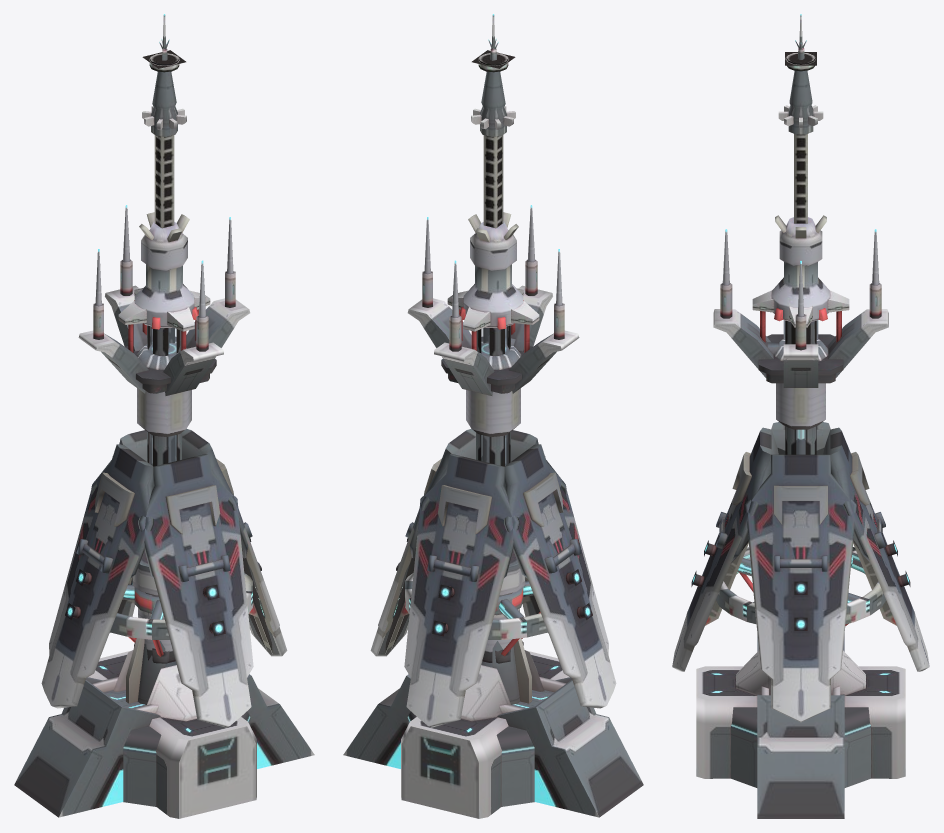
3 views of the same model, side by side, from view 1: azimuth 30°, elevation 25°; view 2: azimuth 150°, elevation 25°; view 3: azimuth 270°, elevation 25° (orthographic).
Visible parts, largest first — view 1: turret-signal; view 2: turret-signal; view 3: turret-signal.
Part boxes in pixels (box(x1,y1,x2,y2)): turret-signal: box(14, 14, 314, 818); turret-signal: box(343, 14, 643, 818); turret-signal: box(672, 14, 929, 818).
Size of the model in its own units: 5.65 by 15.92 by 5.
Materials: 2 (1 with a texture image).
